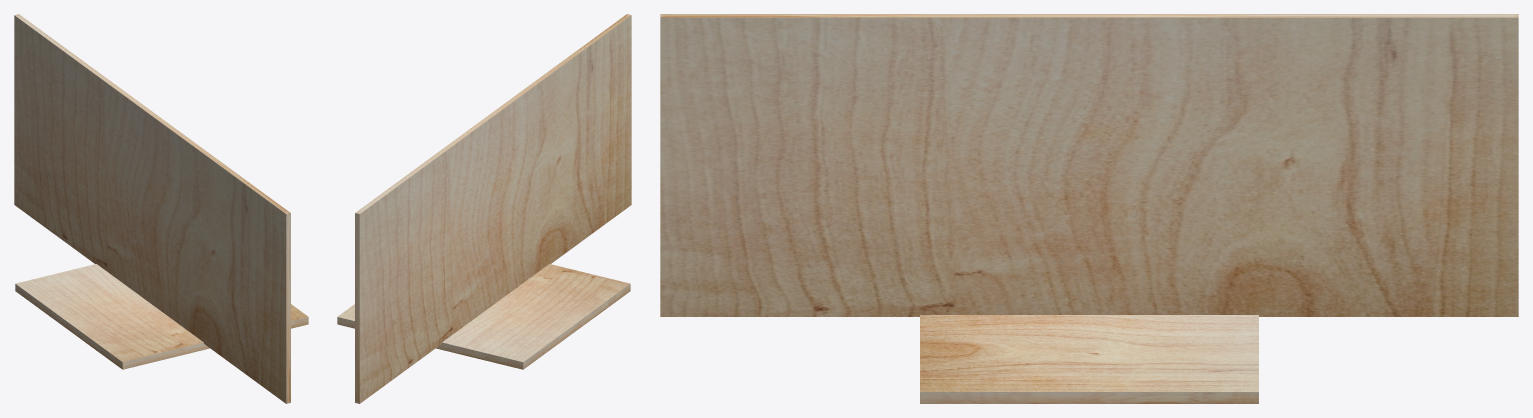
Rendered from wood.obj.
3 views of the same model, side by side, from view 1: azimuth 30°, elevation 25°; view 2: azimuth 150°, elevation 25°; view 3: azimuth 270°, elevation 25° (orthographic). The views are drawn at different scales.
Size of the model in its own units: 200 by 201 by 507.
1 material, 1 textured.
